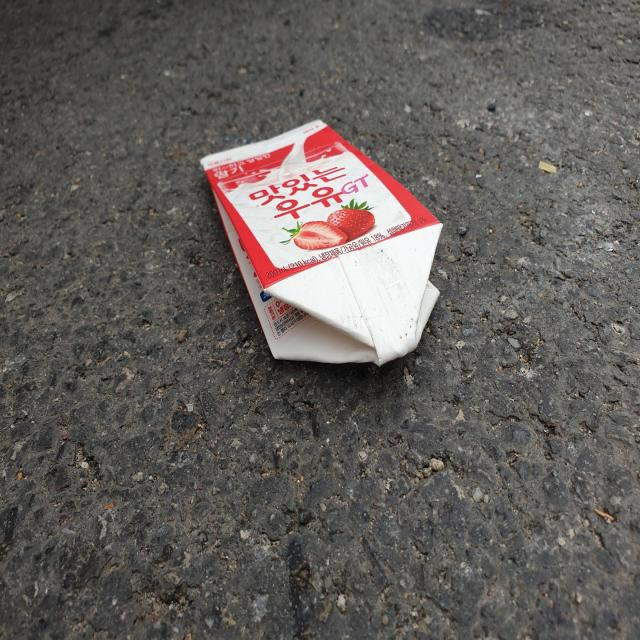paperpack: (201, 120, 442, 364)
